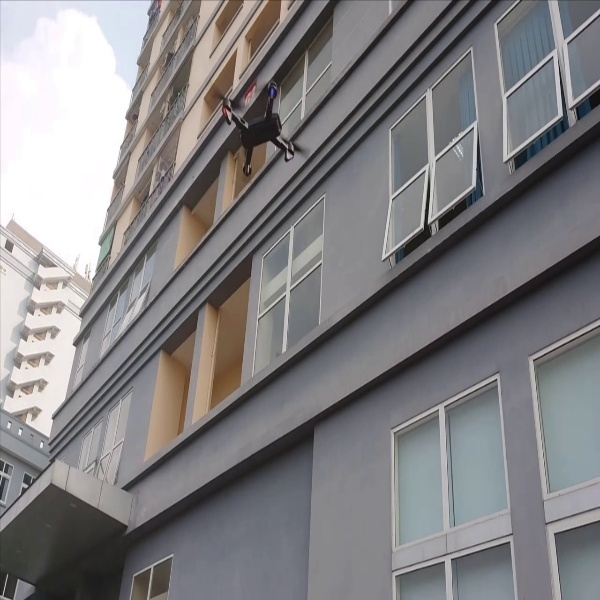drone: (201, 70, 305, 182)
